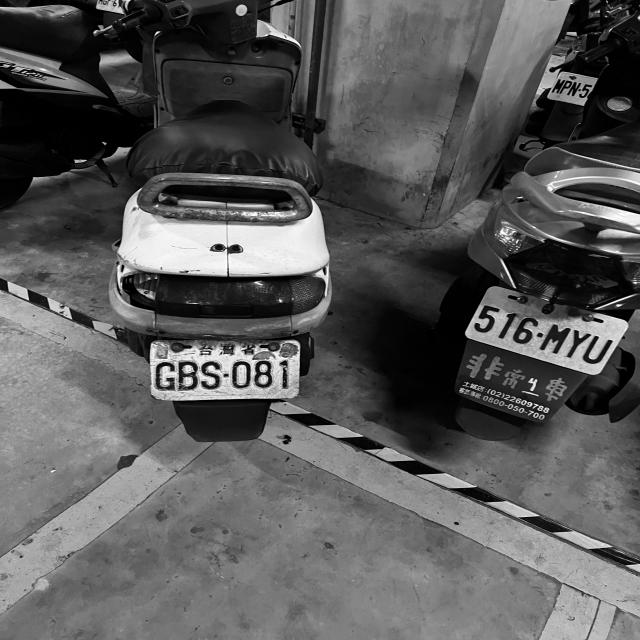-: (535, 331, 545, 339), (222, 371, 231, 378)
0: (230, 359, 252, 389)
1: (494, 310, 520, 341), (278, 357, 297, 393)
5: (471, 302, 502, 336)
6: (509, 315, 543, 347)
8: (253, 359, 275, 388)
B: (177, 359, 201, 390)
G: (152, 359, 176, 391)
M: (538, 322, 574, 356)
S: (200, 359, 222, 390)
U: (579, 333, 618, 368)
Y: (561, 328, 594, 361)
plate: (463, 286, 630, 375), (152, 340, 300, 400)
